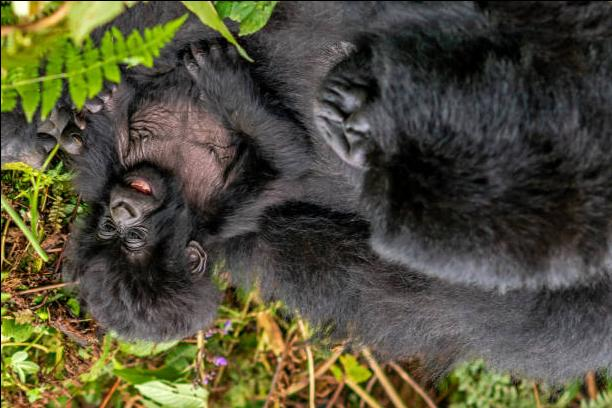goriile_montagne: (254, 7, 612, 376), (54, 27, 292, 346)
